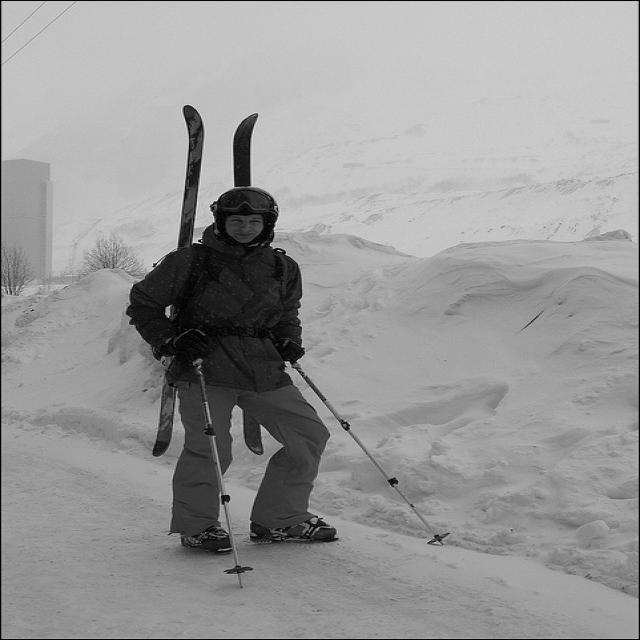monkey: (122, 180, 353, 558)
